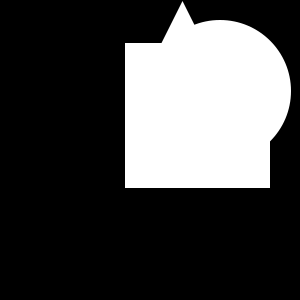circle: (125, 43, 270, 188)
rectangle: (149, 20, 291, 162)
triangle: (141, 1, 224, 84)
